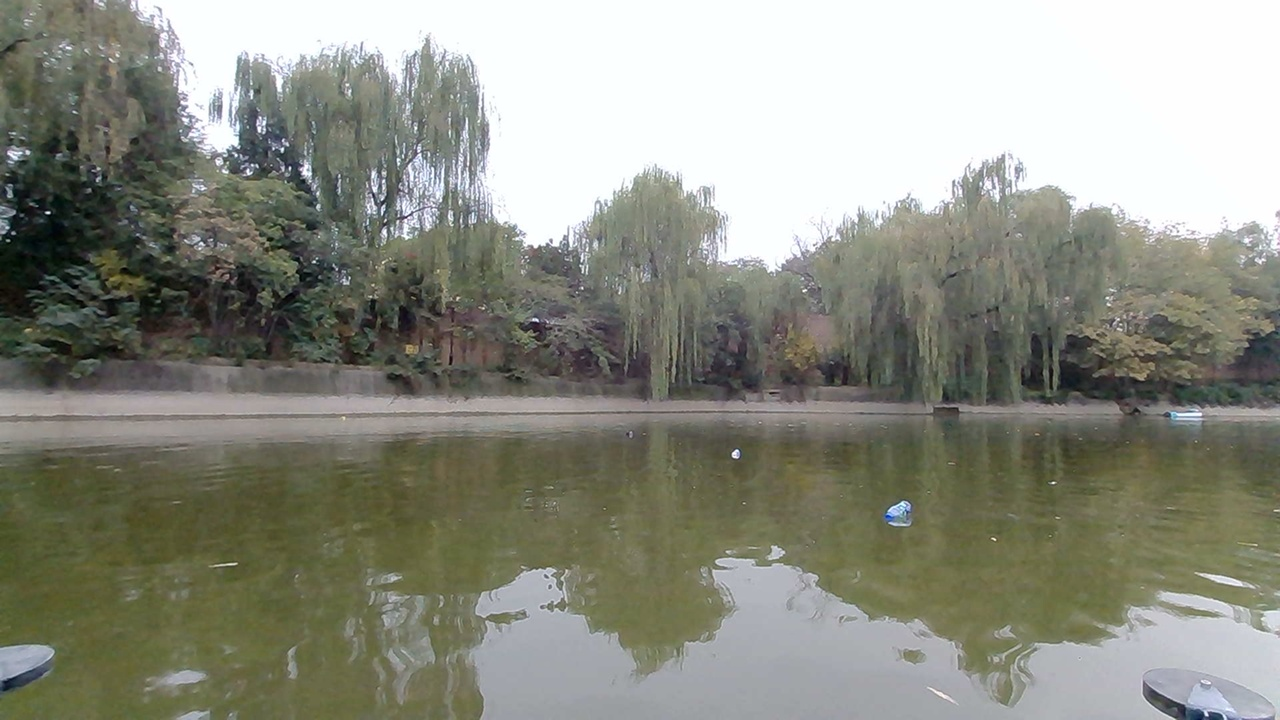bottle: (868, 480, 926, 530), (709, 433, 748, 462), (615, 421, 643, 447)
